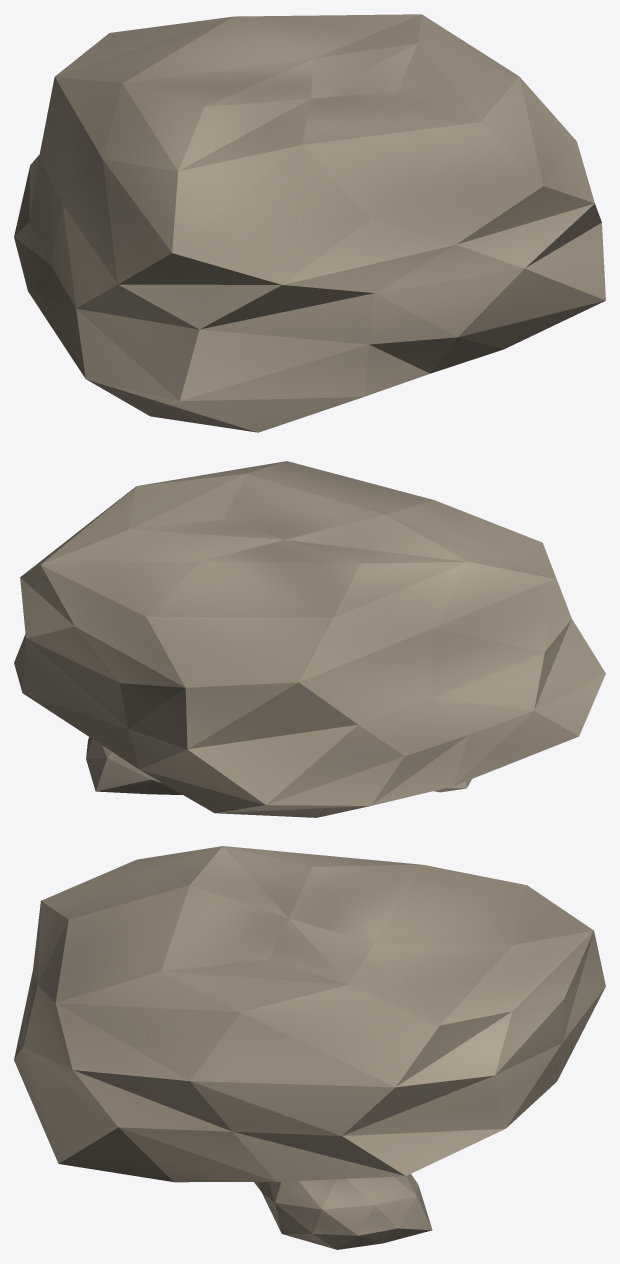
File: rock-support-c.glb
The picture shows the model from 3 angles, top to bottom: view 1: azimuth 30°, elevation 25°; view 2: azimuth 150°, elevation 25°; view 3: azimuth 270°, elevation 25°; orthographic projection. The views are drawn at different scales.
Bounding box in the file's own units: 1.72 × 0.8647 × 1.75.
3 materials, 3 textured.
